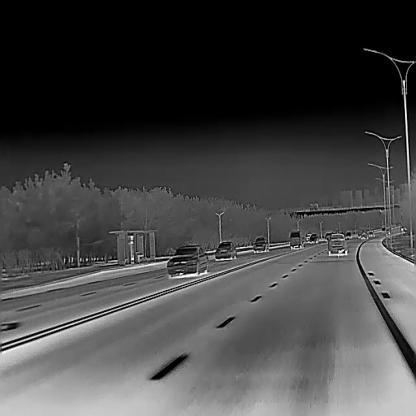car: (166, 244, 209, 275), (327, 233, 349, 254), (214, 240, 237, 258), (289, 230, 304, 248), (253, 236, 269, 251), (309, 232, 320, 242), (345, 230, 352, 238), (306, 233, 311, 241), (325, 232, 330, 240), (361, 231, 367, 237), (369, 230, 373, 236)
